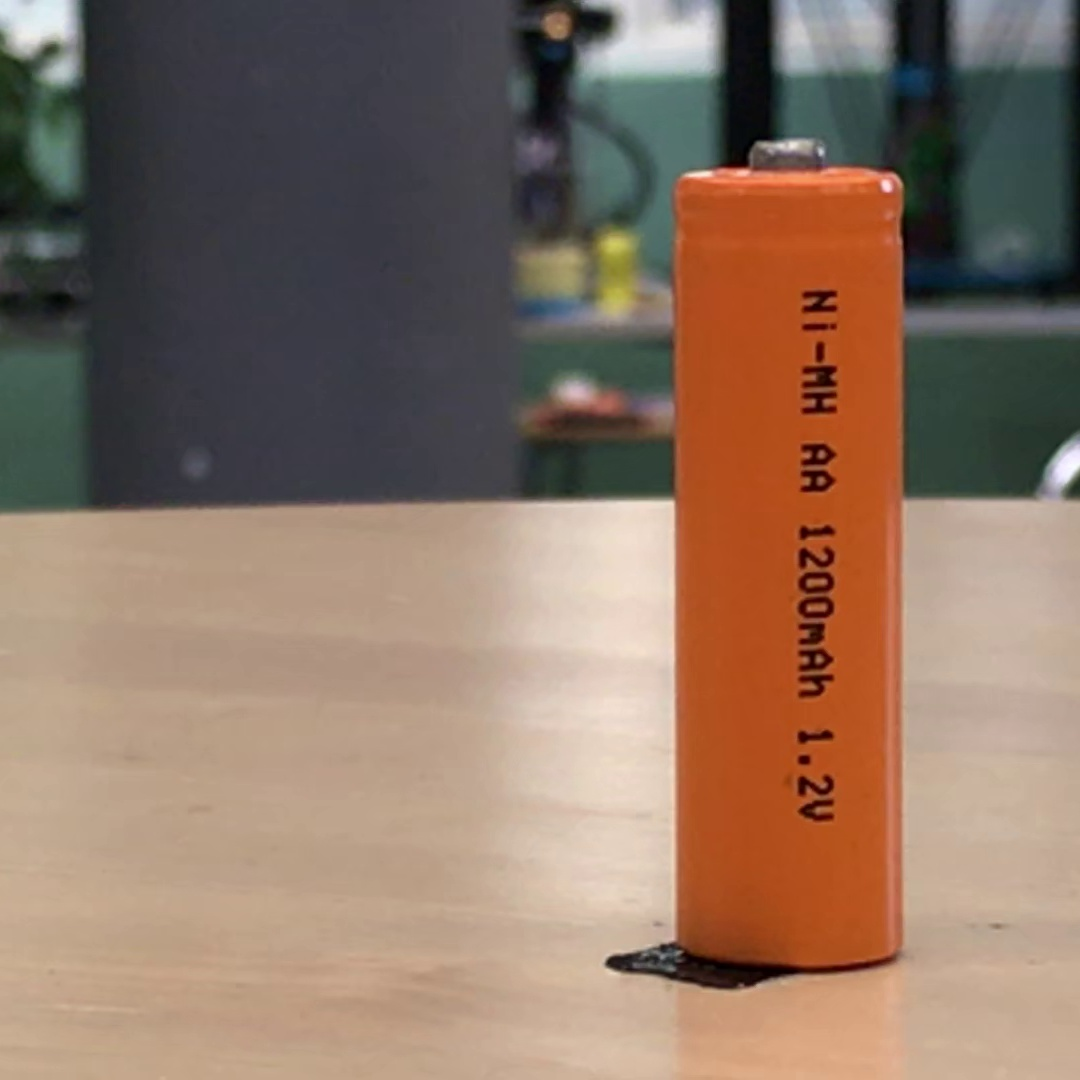keyword: (793, 281, 847, 424)
